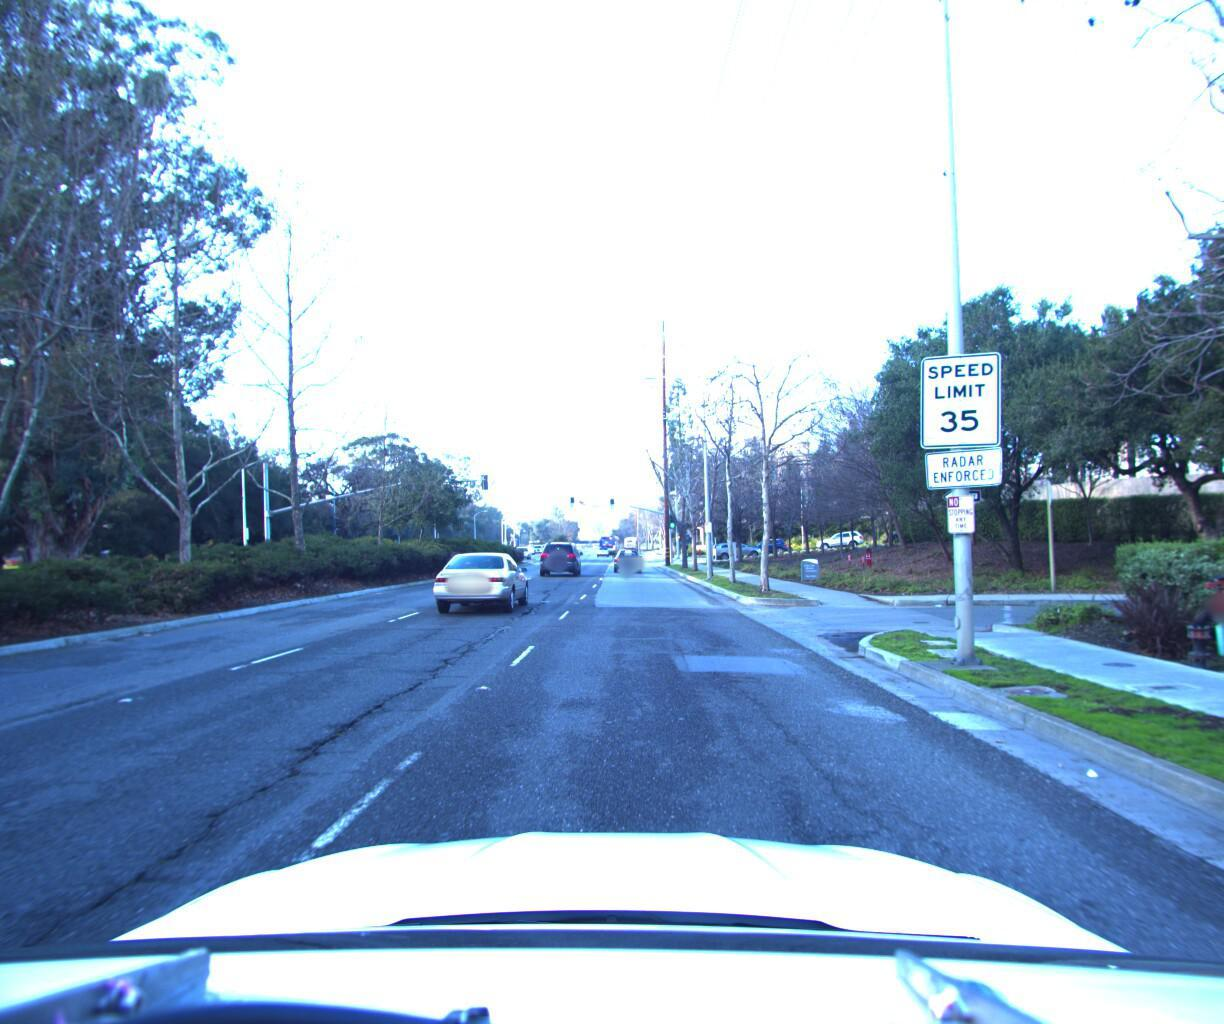car: (426, 547, 535, 619), (538, 537, 582, 573), (813, 524, 863, 546), (709, 535, 764, 553), (617, 541, 645, 568)
